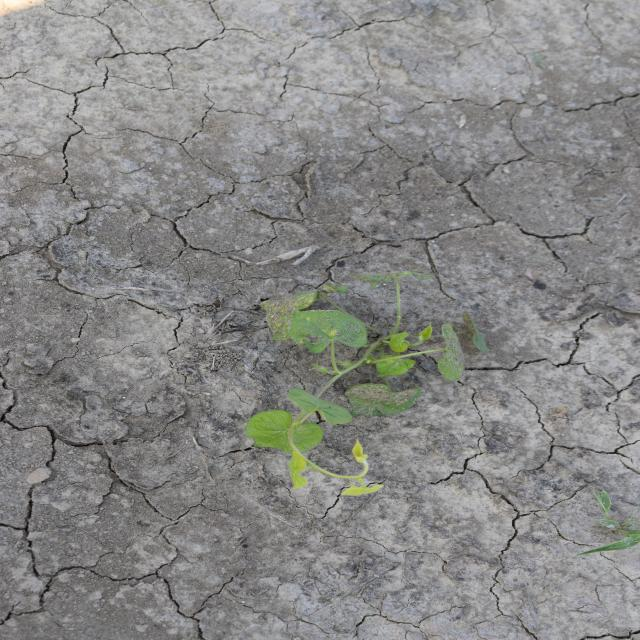MorningGlory: (238, 266, 492, 498)
